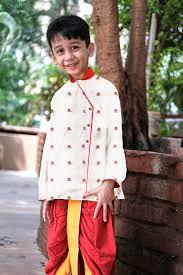Human: (31, 18, 124, 275)
